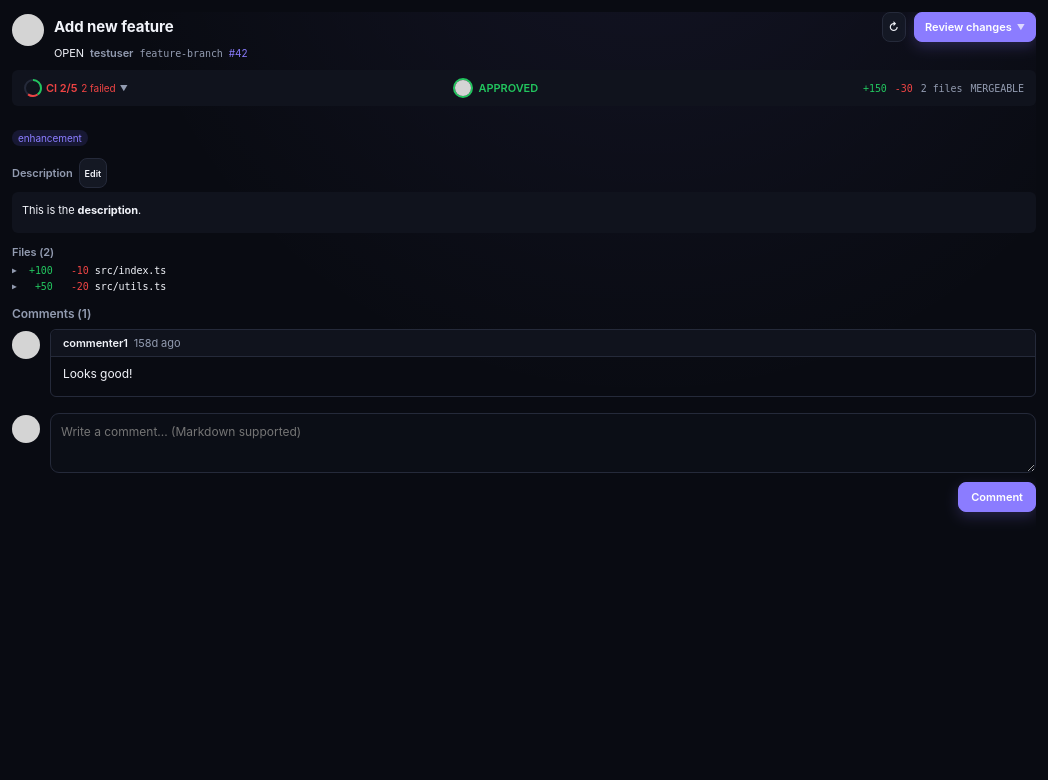
Test: PRDetail › description editor opens on Edit click
This screenshot has width=1048, height=780.
Click Edit button
Click the button "Edit".
click(93, 173)  # box [79,158,107,188]
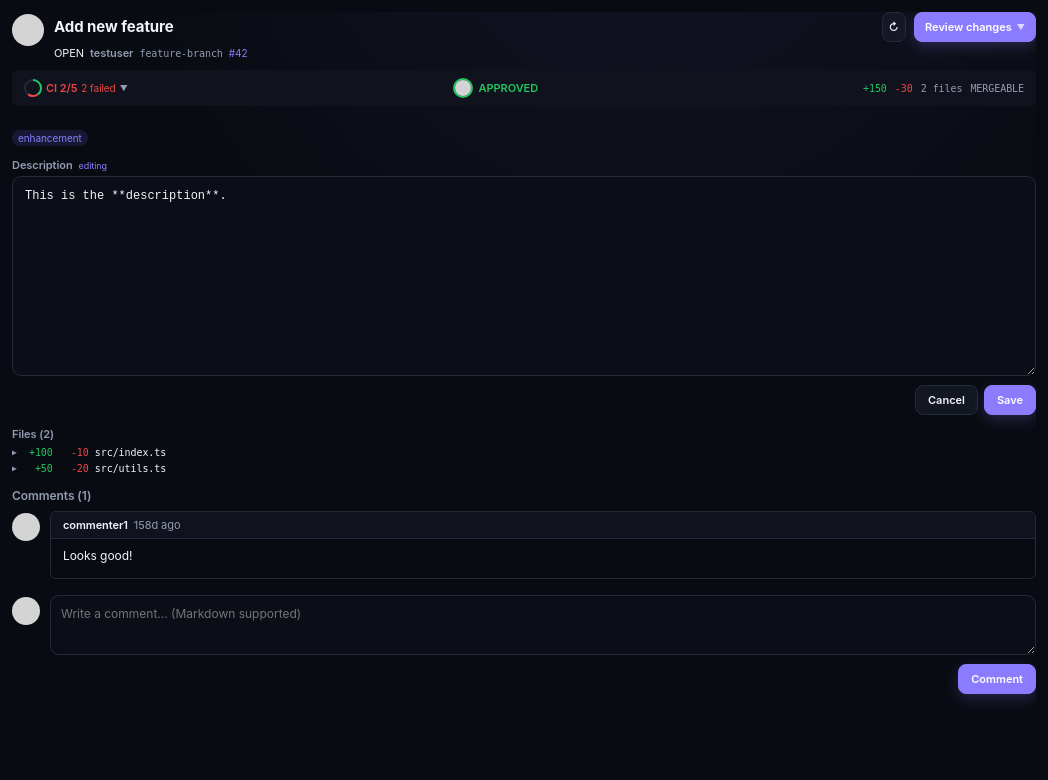
Now the text "editing" is shown, box [79,160,107,170]
Now the button "Cancel" is shown, box [915,385,978,415]
Now the button "Save" is shown, box [984,385,1036,415]
